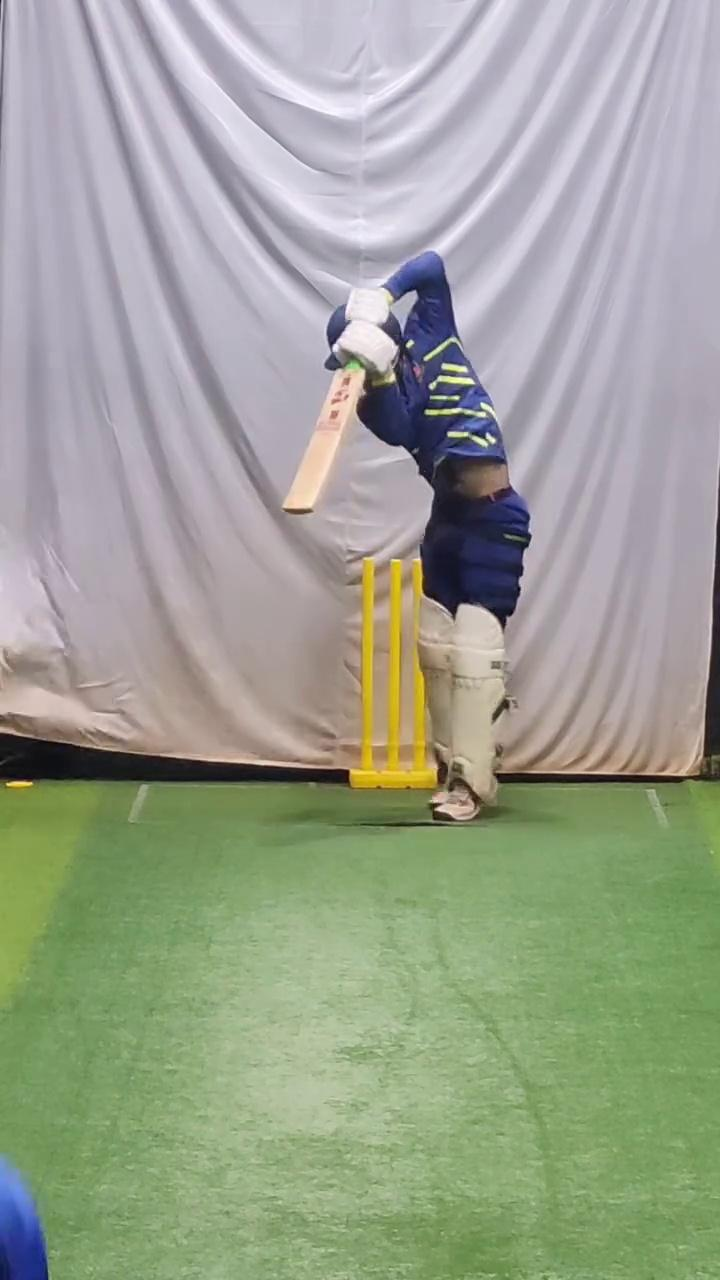bat: (277, 356, 369, 528)
